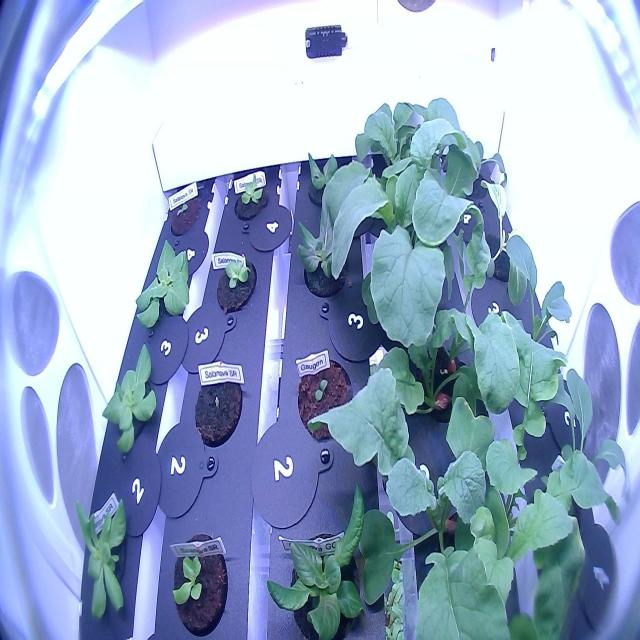germination: (294, 351, 356, 445), (166, 186, 204, 238)
pod: (188, 363, 246, 452)
young: (260, 480, 389, 640), (62, 488, 136, 630), (96, 334, 166, 464), (163, 524, 235, 640), (128, 232, 194, 338), (287, 202, 354, 306), (301, 138, 353, 222), (212, 248, 261, 324), (229, 168, 272, 230)
